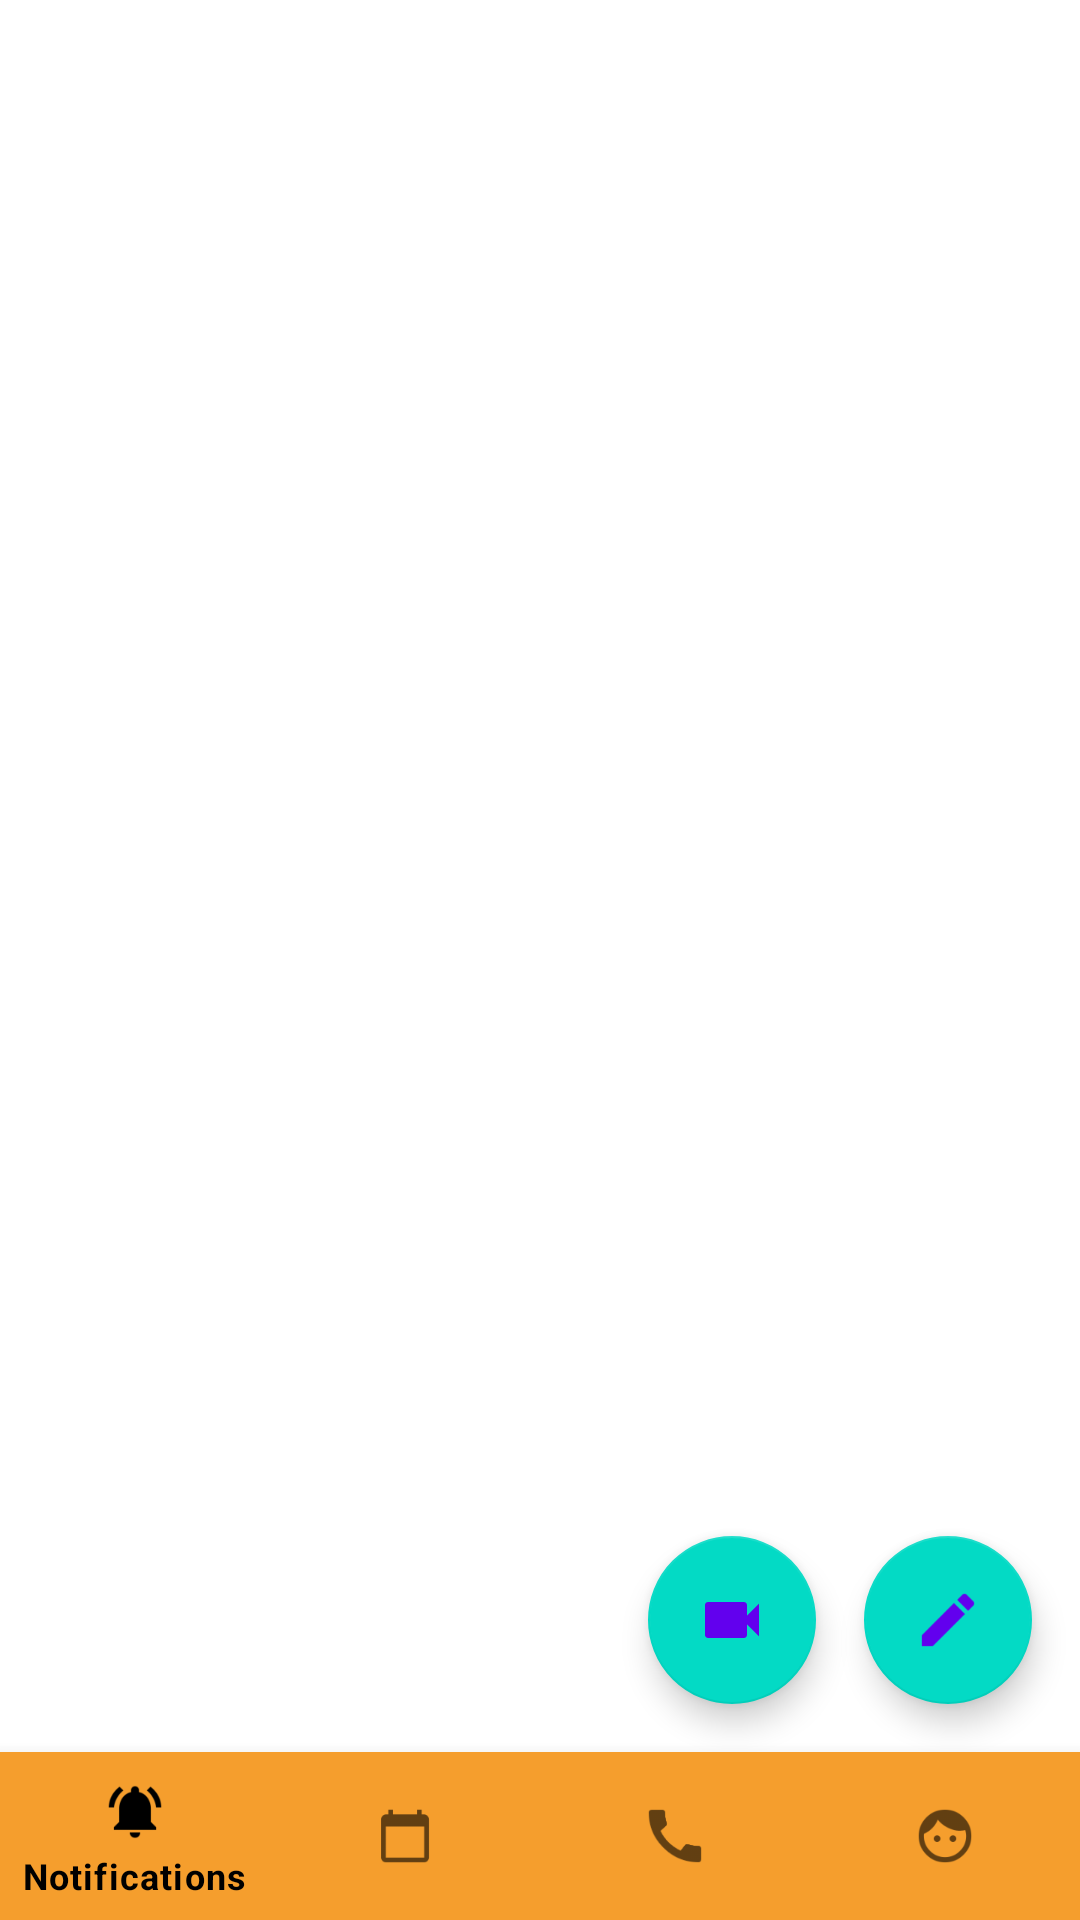

Icons on this 1080*1920 Android screen, each with the point to tap as [x,y]:
edit: [948,1620]
videocam: [732,1620]
